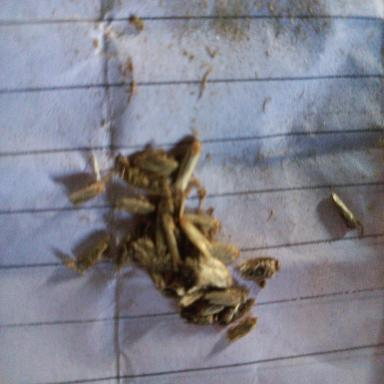pbw: (129, 144, 180, 175), (114, 148, 148, 189), (177, 132, 202, 185), (74, 236, 110, 269), (176, 218, 210, 252), (238, 256, 280, 280), (70, 179, 106, 207), (119, 191, 158, 213), (332, 192, 358, 225), (206, 288, 248, 308), (226, 316, 260, 340), (163, 212, 179, 262), (224, 295, 255, 319), (137, 238, 158, 270), (213, 240, 237, 266), (158, 180, 176, 210), (180, 287, 201, 307), (187, 256, 203, 278), (116, 239, 128, 266)
